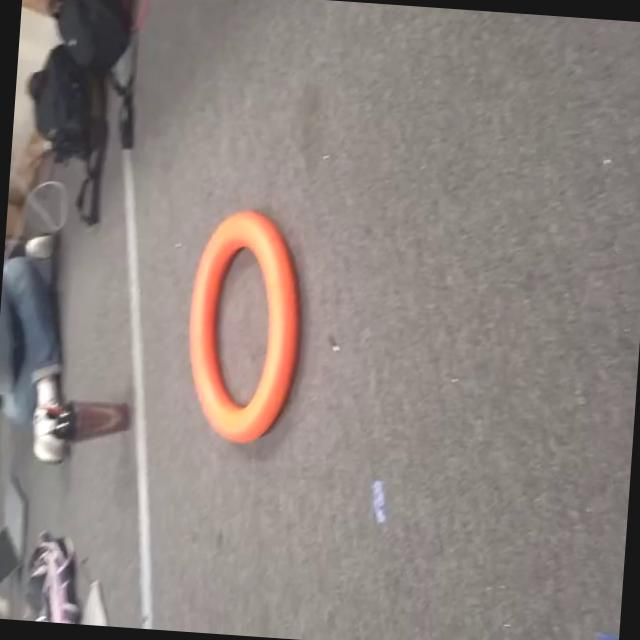note: (170, 204, 318, 458)
